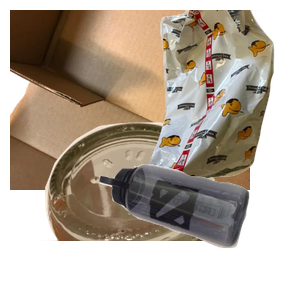cardboard: (10, 10, 250, 190)
glass: (22, 120, 233, 300)
plastic: (97, 162, 300, 300)
trash: (127, 10, 300, 190)
